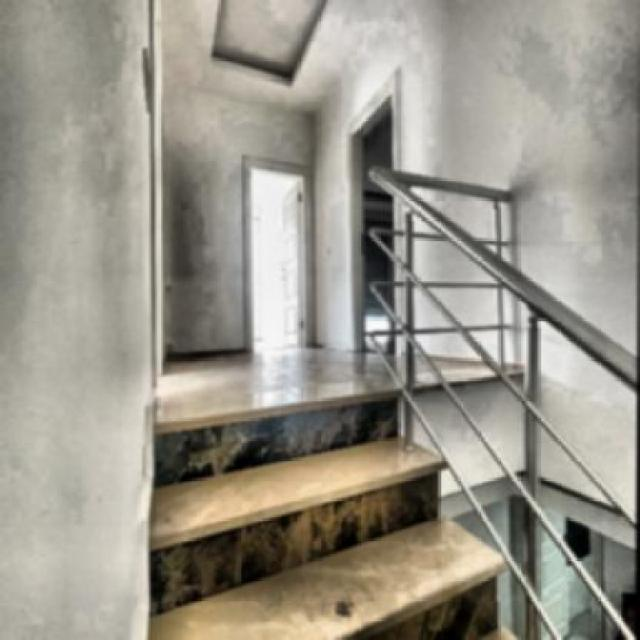stair: (151, 417, 517, 640)
